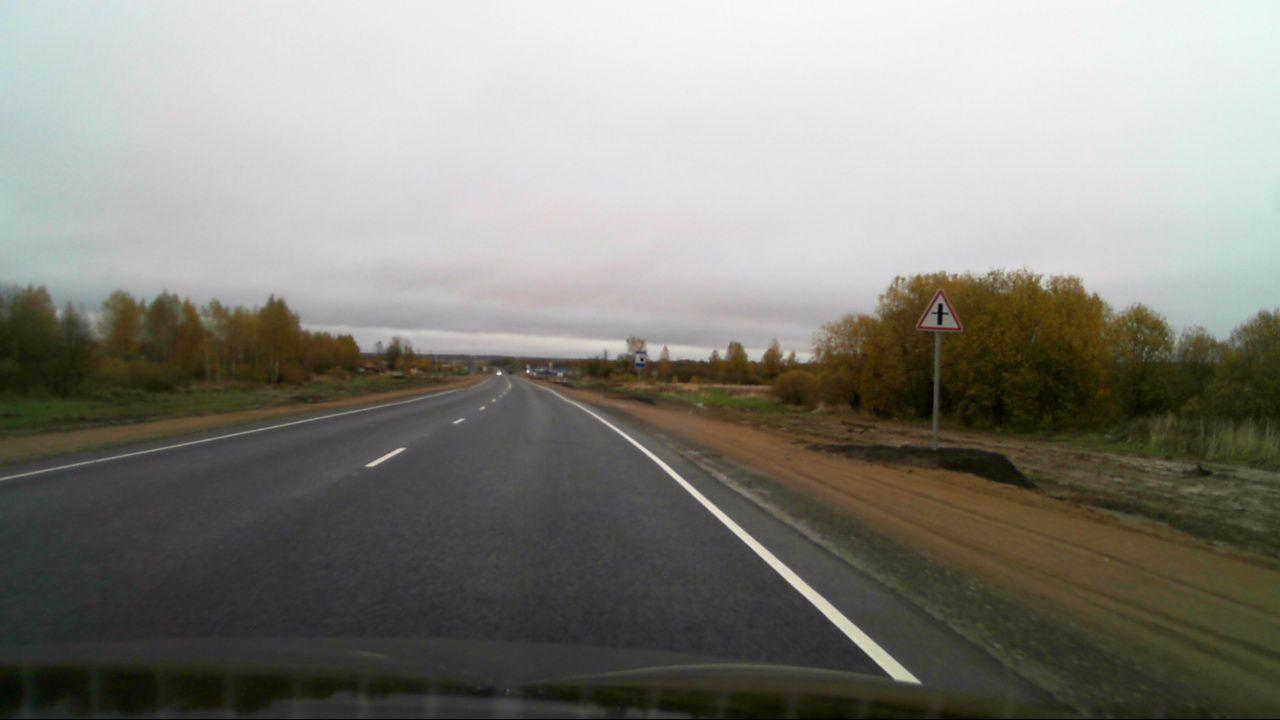2_3_1: (918, 288, 964, 331)
7_3: (633, 348, 652, 368)
